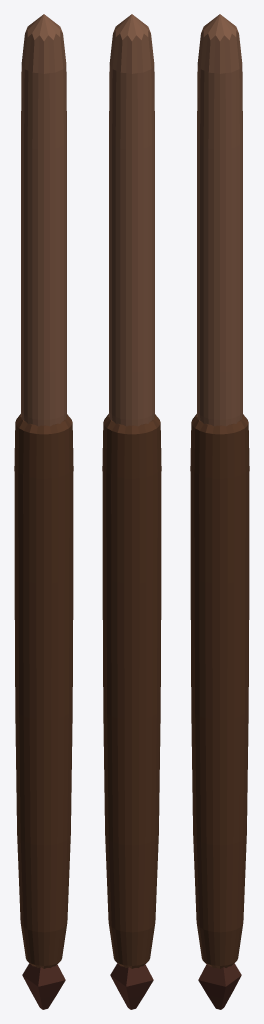
File: Wand 15.glb
The picture shows the model from 3 angles, left to right: view 1: azimuth 30°, elevation 25°; view 2: azimuth 210°, elevation 25°; view 3: azimuth 330°, elevation 25°; orthographic projection.
Parts seen in each view (by area): view 1: GeneratedWand; view 2: GeneratedWand; view 3: GeneratedWand.
Part boxes in pixels (x1,y1,x2,y2): GeneratedWand: (14,14,73,1009); GeneratedWand: (102,14,161,1009); GeneratedWand: (190,14,249,1009).
Bounding box in the file's own units: 0.0273 × 0.5075 × 0.0273.
